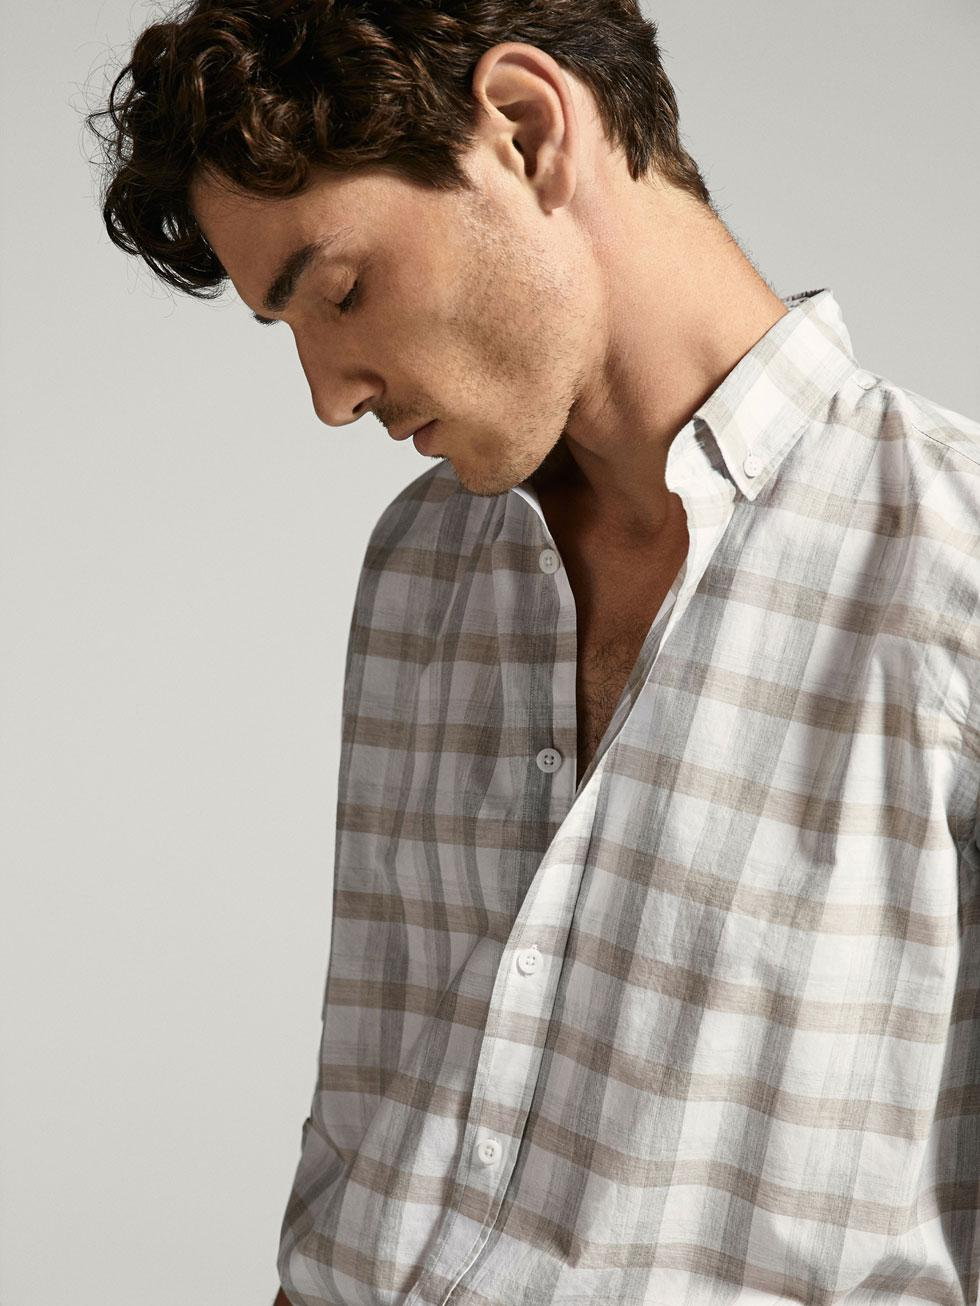teeshirt: (192, 299, 980, 1304)
